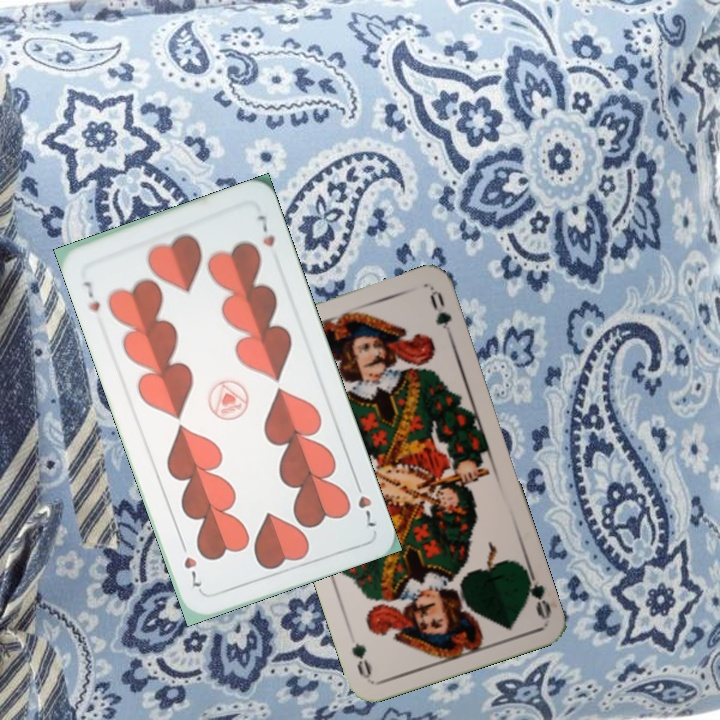GO: (518, 562, 554, 620)
H7: (350, 475, 379, 532), (79, 277, 103, 314)
